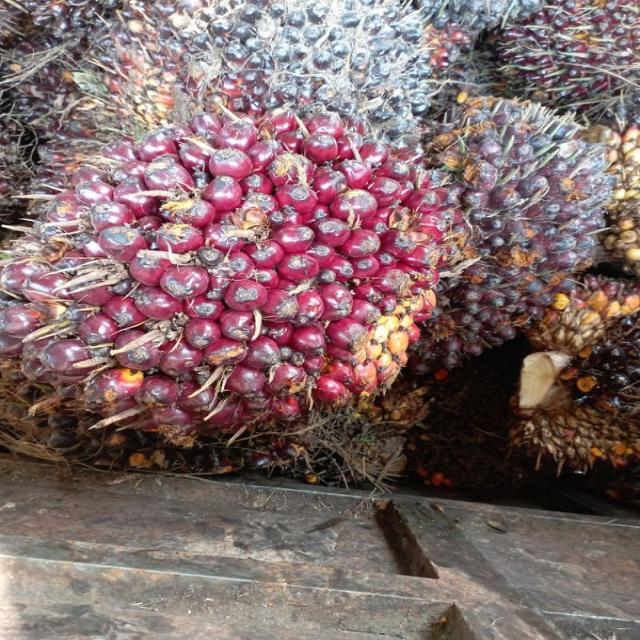fraksi 1: (0, 79, 564, 468)
